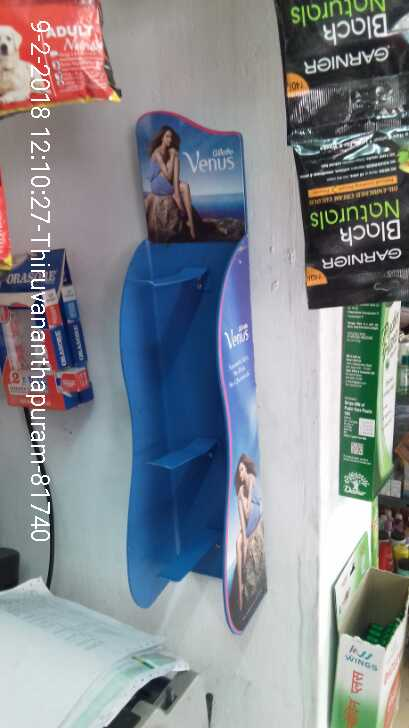reject: (150, 279, 250, 364)
